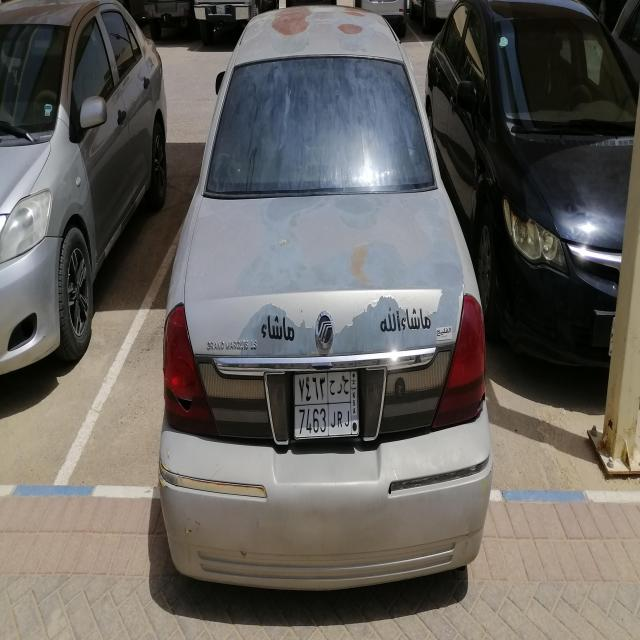license_plate: (295, 372, 359, 438)
